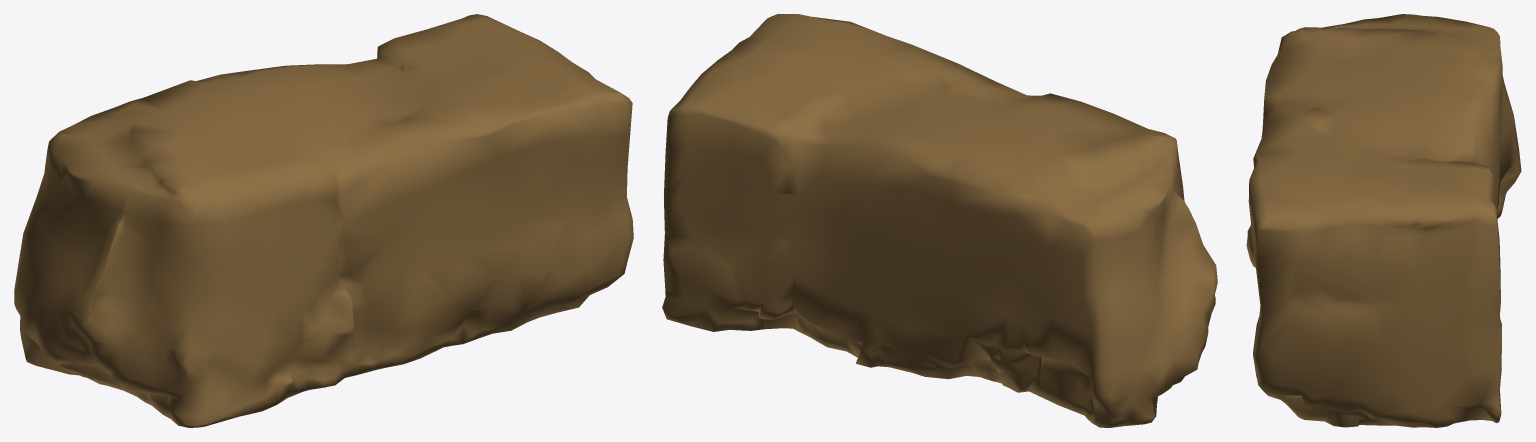
The model's file is MSH_Rocks_Cliff_02_a.FBX.
3 views of the same model, side by side, from view 1: azimuth 30°, elevation 25°; view 2: azimuth 150°, elevation 25°; view 3: azimuth 270°, elevation 25° (orthographic). The views are drawn at different scales.
Visible parts, largest first — view 1: MESH_LOD0; view 2: MESH_LOD0; view 3: MESH_LOD0.
Boxes of the visible parts, x1,y1,x2,y2 form: MESH_LOD0: [14, 14, 633, 427]; MESH_LOD0: [662, 14, 1217, 427]; MESH_LOD0: [1246, 14, 1521, 427].
Size of what is drawn, in the model's own units: 727 by 314 by 347.
